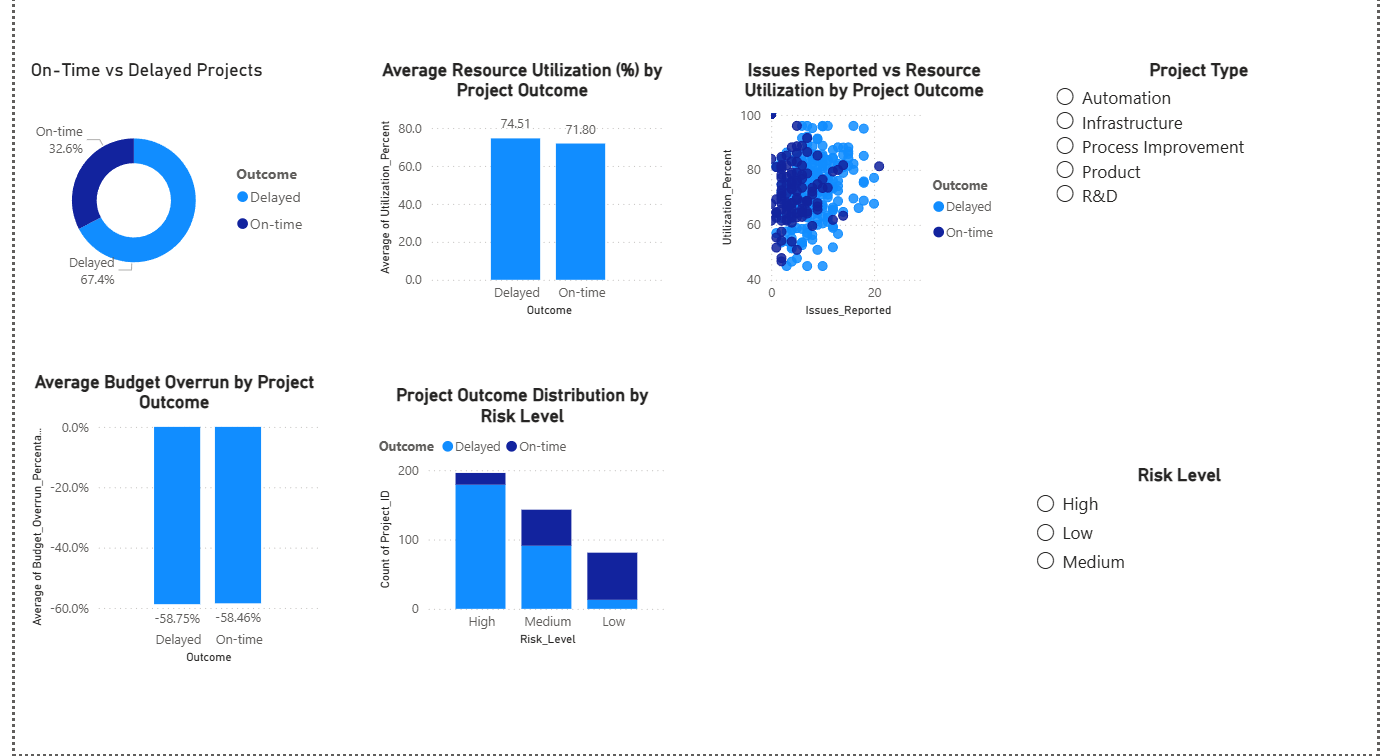

The page's visual inventory and layout, read from the dashboard file:
{"tool":"powerbi","page":{"name":"Page 1","canvas":[1280,720],"ordinal":0},"visuals":[{"type":"donutChart","title":"On-Time vs Delayed Projects","fields":{"Category":["projects_clean.Outcome"],"Y":["CountNonNull(projects_clean.Project_ID)"]},"box":[10,66.7,280,246.7],"z":0},{"type":"clusteredColumnChart","title":"Average Budget Overrun by Project Outcome","fields":{"Category":["projects_clean.Outcome"],"Y":["Avg(projects_clean.Budget_Overrun_Percentage)"]},"box":[10,360,280,280],"z":1000},{"type":"clusteredColumnChart","title":"Average Resource Utilization (%) by Project Outcome","fields":{"Category":["projects_clean.Outcome"],"Y":["Avg(projects_clean.Utilization_Percent)"]},"box":[336.7,66.7,280,246.7],"z":2000},{"type":"columnChart","title":"Project Outcome Distribution by Risk Level","fields":{"Category":["projects_clean.Risk_Level"],"Series":["projects_clean.Outcome"],"Y":["CountNonNull(projects_clean.Project_ID)"]},"box":[336.7,371.7,280,250],"z":3000},{"type":"scatterChart","title":"Issues Reported vs Resource Utilization by Project Outcome","fields":{"X":["projects_clean.Issues_Reported"],"Y":["projects_clean.Utilization_Percent"],"Series":["projects_clean.Outcome"]},"box":[658.3,66.7,280,246.7],"z":4000},{"type":"listSlicer","title":"Project Type","fields":{"Values":["projects_clean.Project_Type"]},"box":[973.3,66.7,280,213.3],"z":4001},{"type":"listSlicer","title":"Risk Level","fields":{"Values":["projects_clean.Risk_Level"]},"box":[955,446.7,280,245],"z":4002}]}

Visuals, with their boxes in screenshot pixels (x1, y1, x2, y2), scaled from the page's 1280x720 canvas onto the 1381x756 screenshot:
"On-Time vs Delayed Projects" donutChart: [11,70,313,329]
"Average Budget Overrun by Project Outcome" clusteredColumnChart: [11,378,313,672]
"Average Resource Utilization (%) by Project Outcome" clusteredColumnChart: [363,70,665,329]
"Project Outcome Distribution by Risk Level" columnChart: [363,390,665,653]
"Issues Reported vs Resource Utilization by Project Outcome" scatterChart: [710,70,1012,329]
"Project Type" listSlicer: [1050,70,1352,294]
"Risk Level" listSlicer: [1030,469,1332,726]
